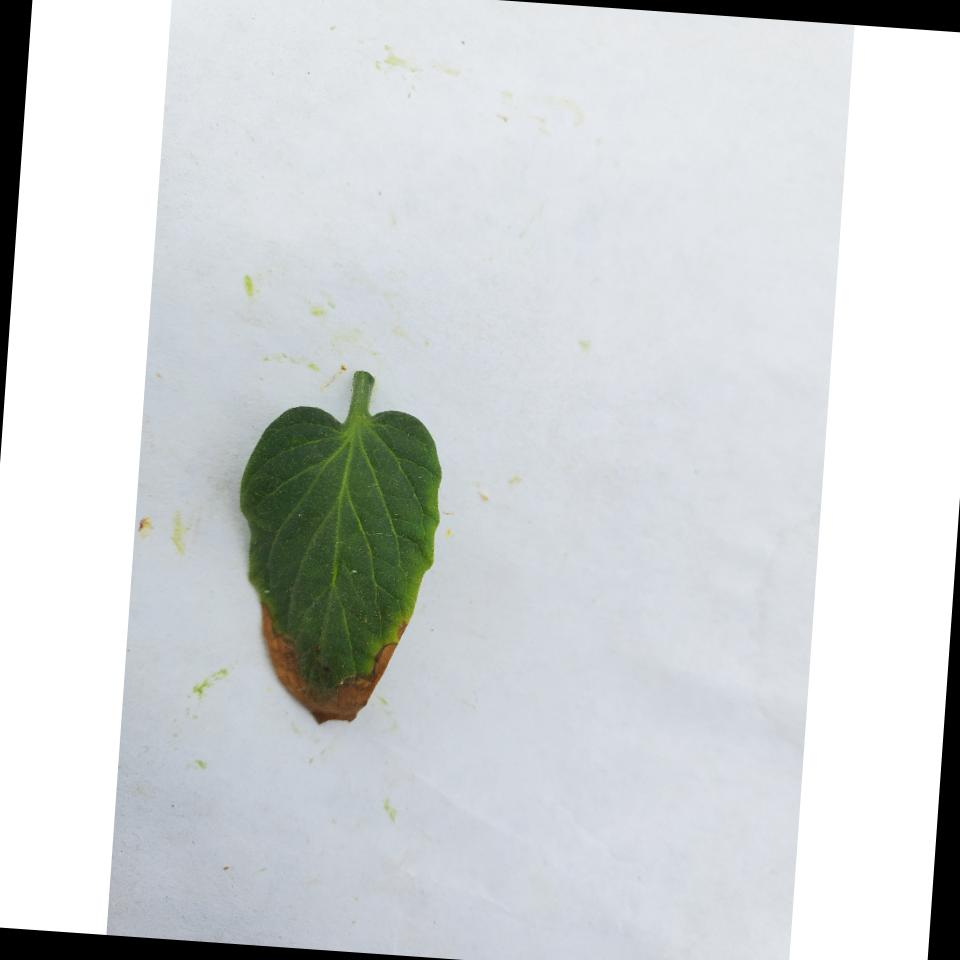tomato_bacterial_blight: (227, 386, 454, 741)
